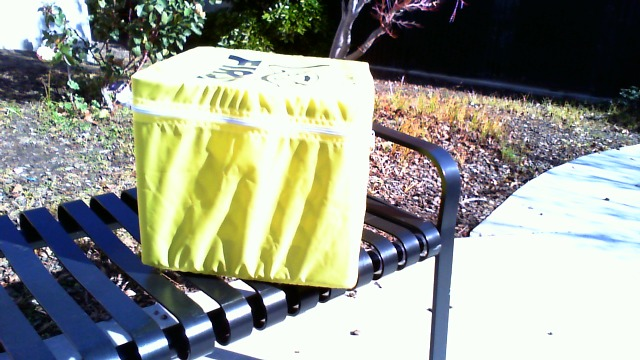cube: (110, 41, 384, 298)
